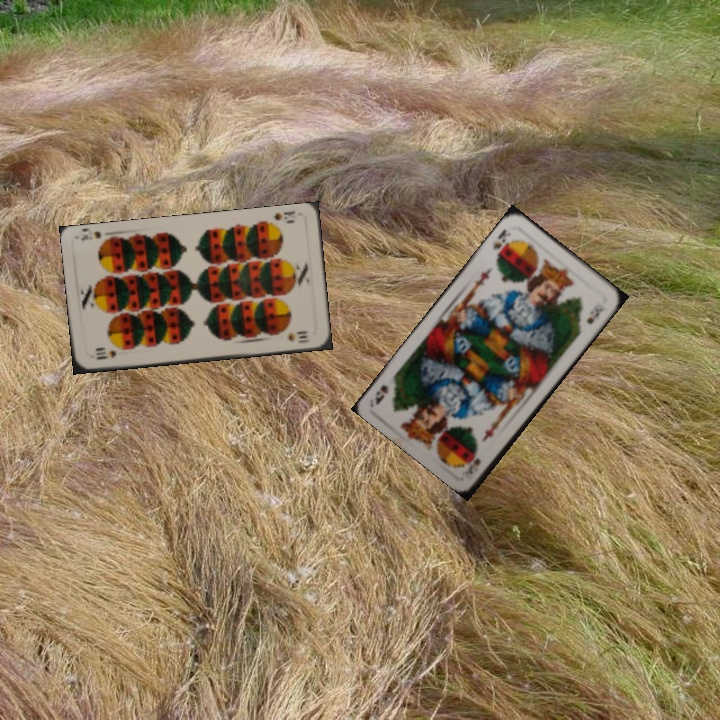S10: (269, 207, 298, 222), (92, 346, 119, 362)
SK: (488, 225, 510, 258), (462, 454, 484, 477)
